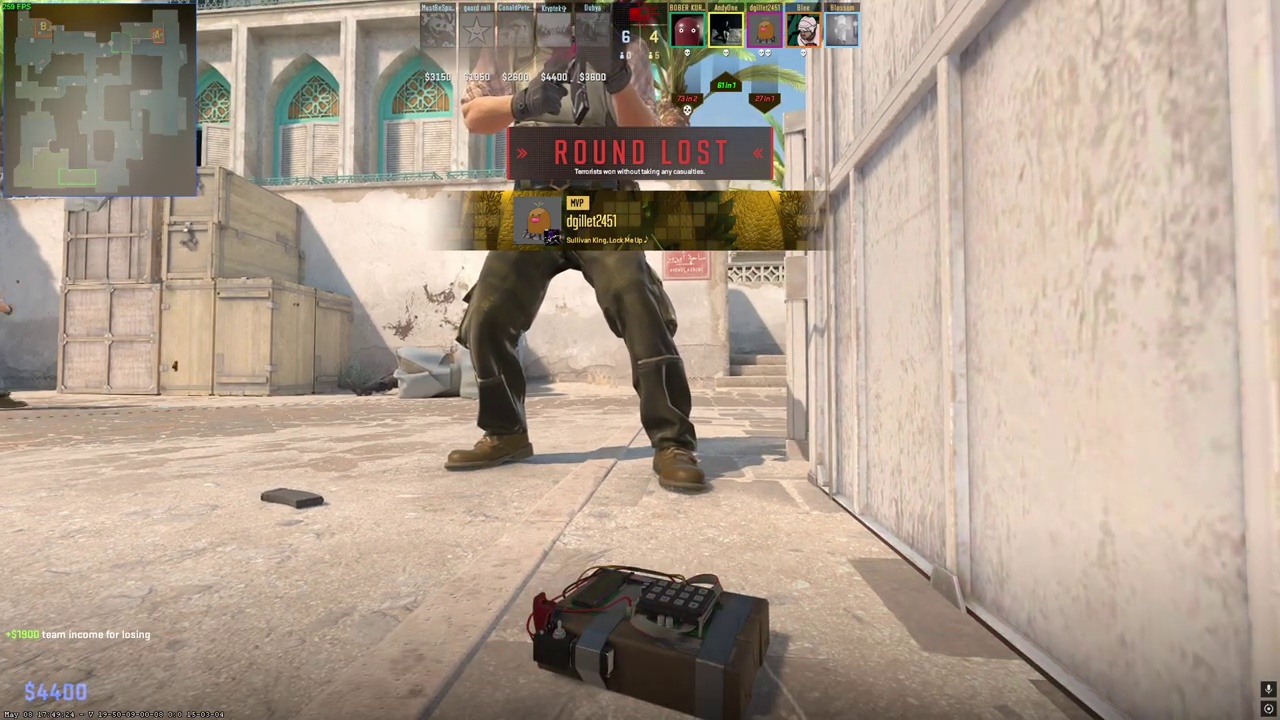Terrorist: (437, 1, 713, 500)
